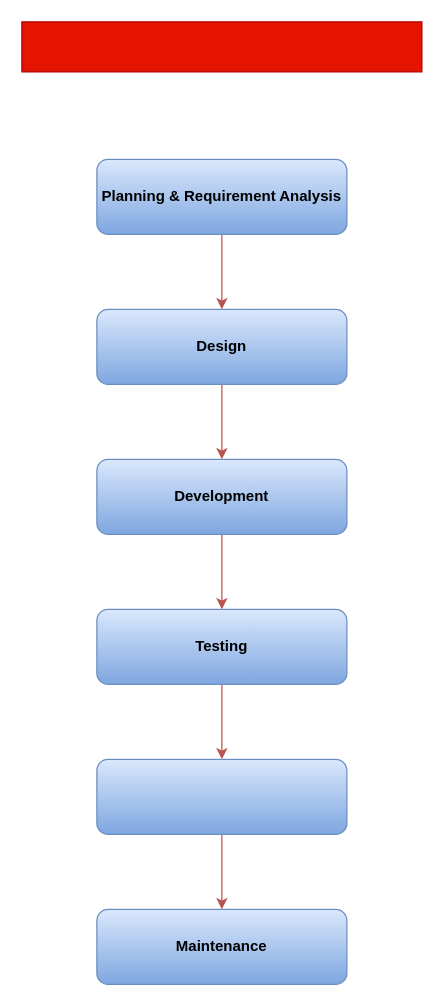
Image size: 444x1006. Some labels were removed from this diagram. The centre of each missing label's shape, as x and y in pixels:
"Deployment" belongs at point 221,796.
"Lifecycle for my Web Application Project" belongs at point 221,46.
